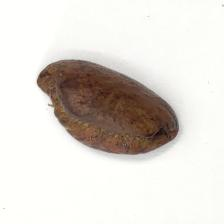NG: (71, 61, 181, 141), (36, 65, 71, 126)
